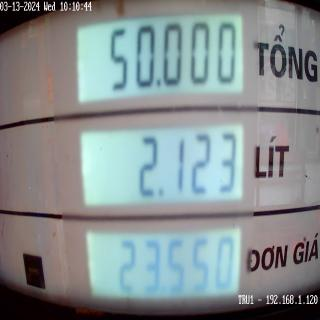screen: (69, 0, 249, 318)
